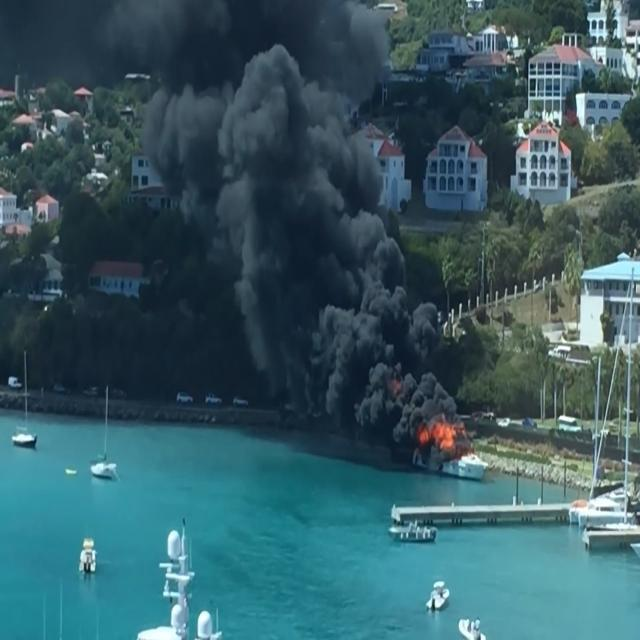Smoke: (222, 39, 391, 342), (310, 239, 440, 400), (352, 354, 447, 427)
